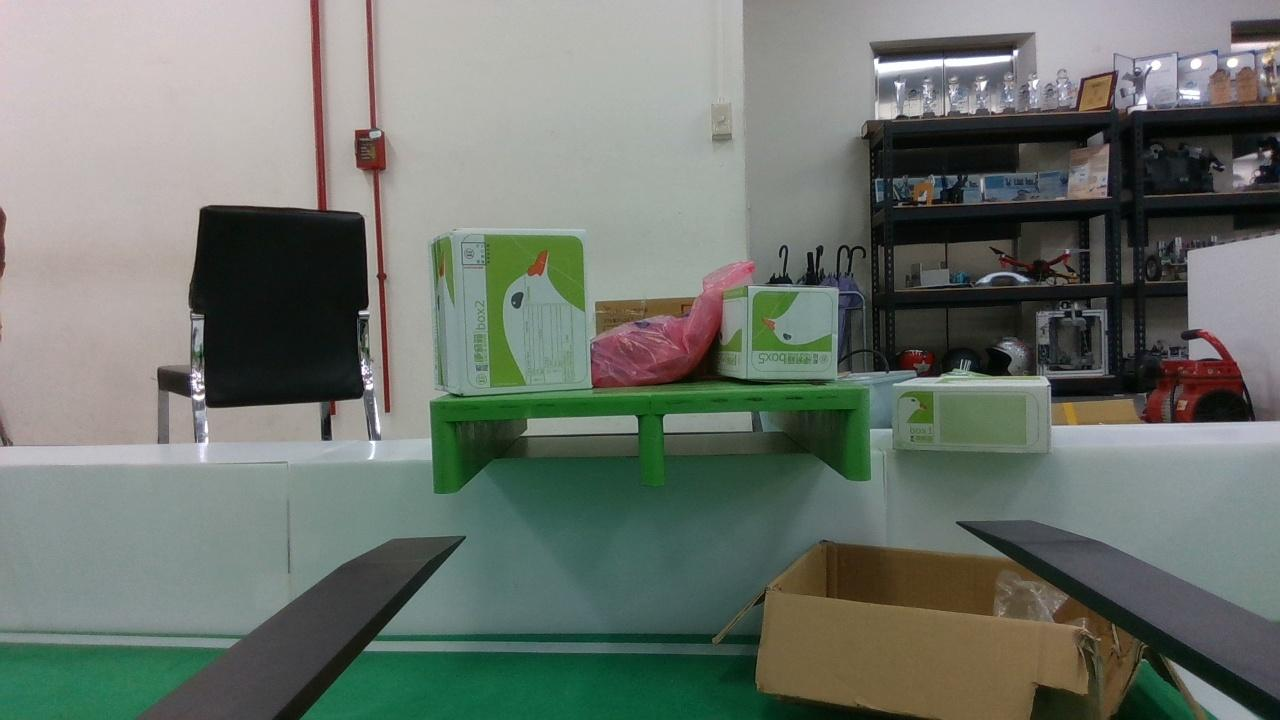Pallet: (429, 387, 873, 494)
